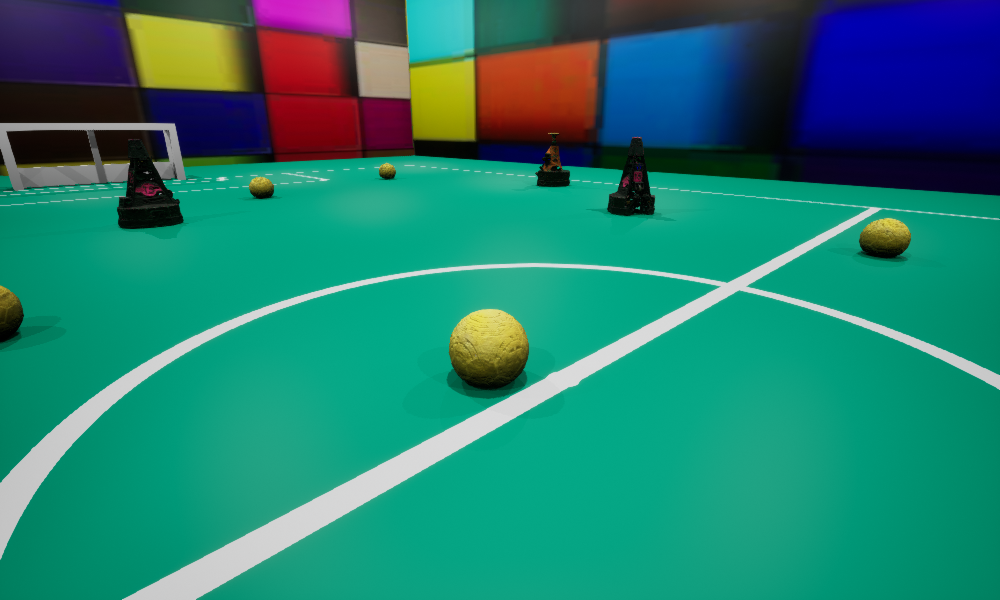b: (449, 309, 528, 387), (859, 218, 910, 256), (0, 285, 23, 338), (249, 177, 273, 196), (379, 163, 395, 177)
o: (535, 133, 569, 186)
p1: (117, 139, 183, 228), (607, 137, 654, 215)
